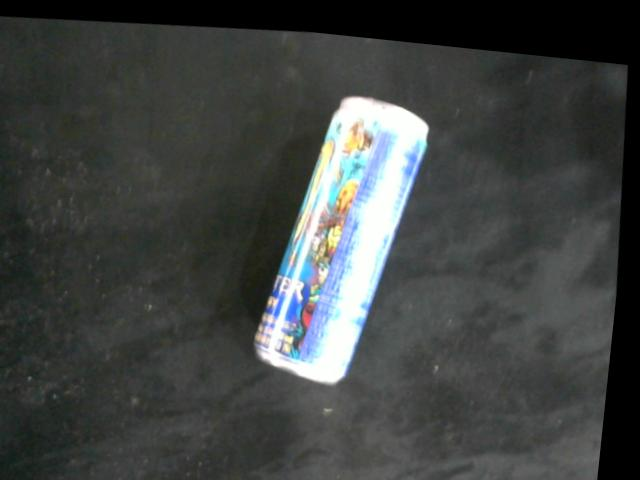can: (258, 86, 432, 382)
